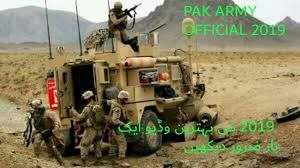uniform: (27, 94, 64, 157), (77, 89, 106, 158), (103, 89, 130, 158), (104, 2, 136, 49)
